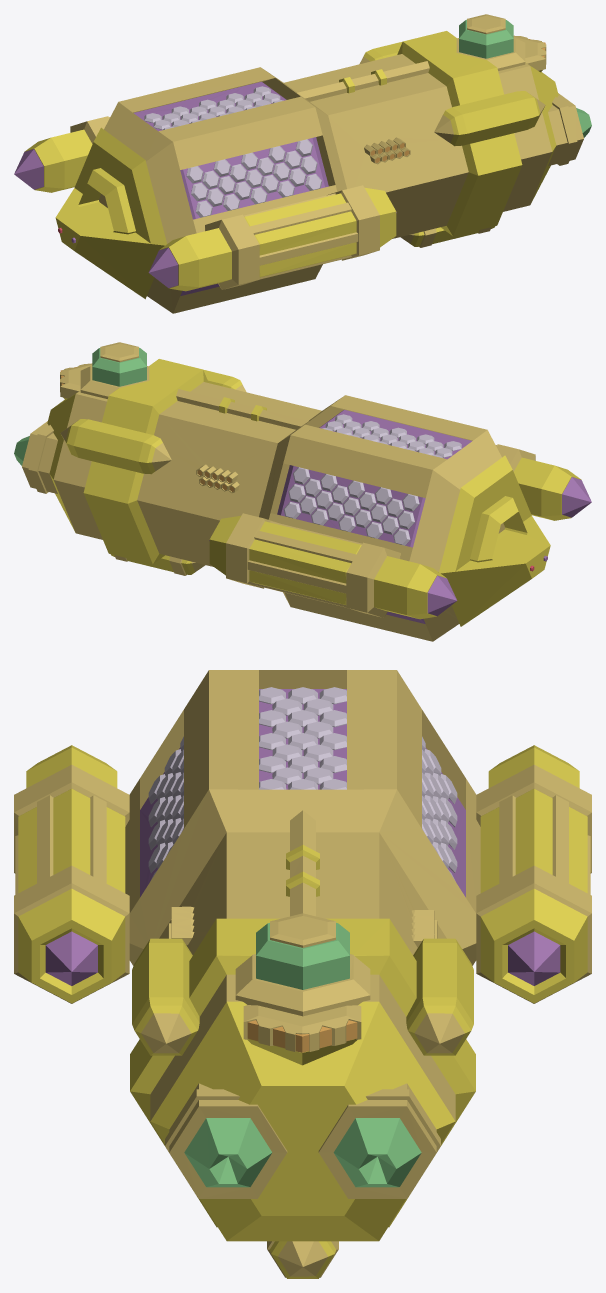
File: vra-avalanche.glb
3 renders of one model, top to bottom at view 1: azimuth 30°, elevation 25°; view 2: azimuth 150°, elevation 25°; view 3: azimuth 270°, elevation 25°, orthographic. The views are drawn at different scales.
Visible parts, largest first — view 1: Avalanche current hull - authored COLOR_0 regions; view 2: Avalanche current hull - authored COLOR_0 regions; view 3: Avalanche current hull - authored COLOR_0 regions.
Part boxes in pixels (left/top/right/bottom): Avalanche current hull - authored COLOR_0 regions: left=14, top=14, right=591, bottom=313; Avalanche current hull - authored COLOR_0 regions: left=14, top=342, right=591, bottom=641; Avalanche current hull - authored COLOR_0 regions: left=14, top=670, right=591, bottom=1278.
Size of the model in its own units: 4.93 by 1.93 by 2.88.
